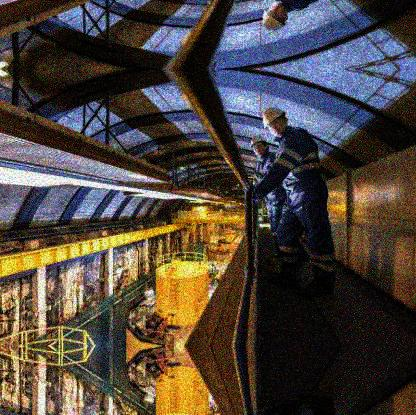helmet: (261, 1, 289, 30), (262, 108, 289, 137), (251, 136, 268, 158)
